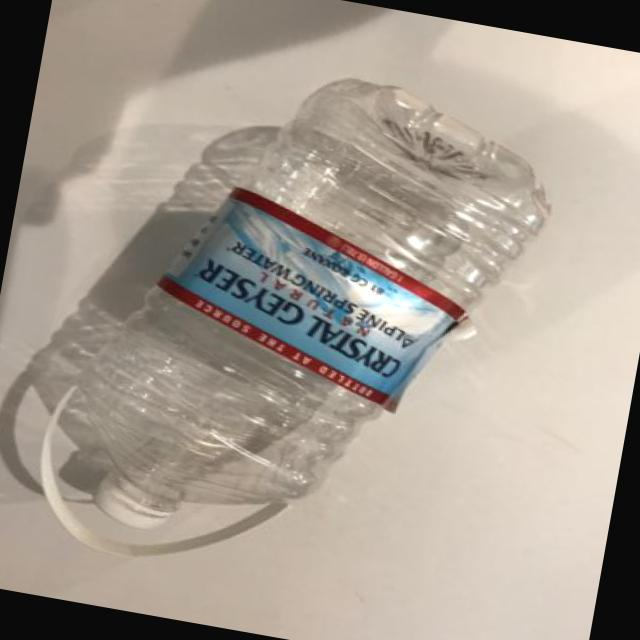bottle: (75, 285, 382, 526), (20, 125, 277, 410)
plastic: (73, 288, 380, 513)
